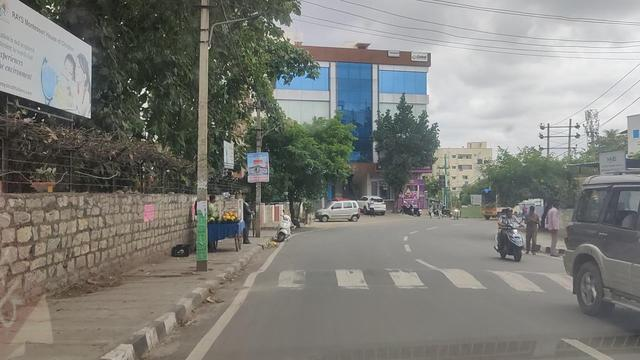LMV: (498, 207, 526, 258)
SpeedBump: (260, 268, 560, 287)
